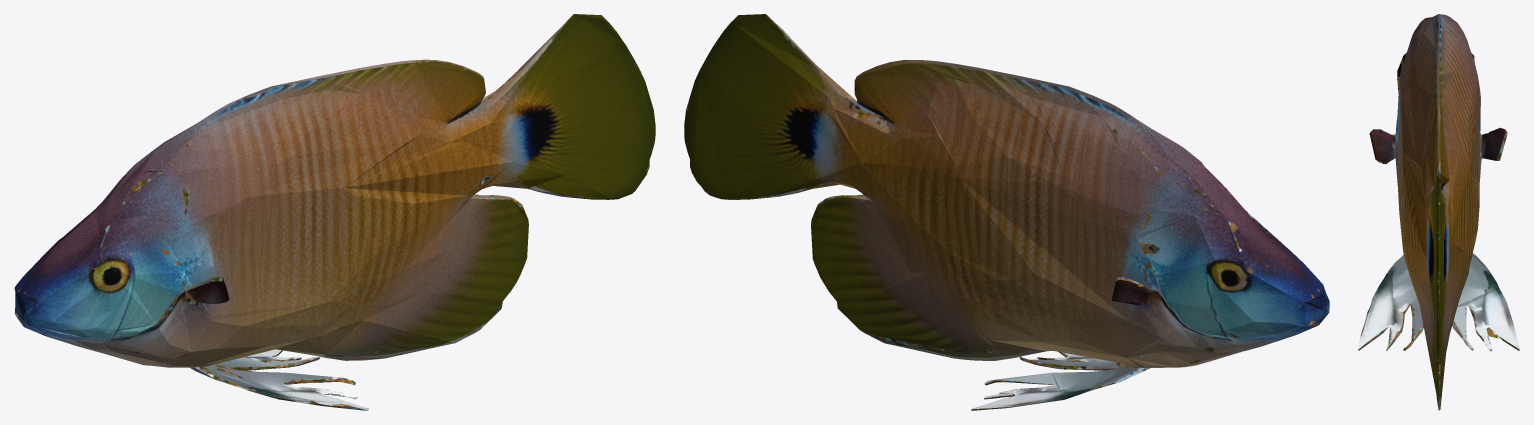
The model's file is fish_0068_smpl23_resized.glb.
3 renders of one model, left to right at view 1: azimuth 30°, elevation 25°; view 2: azimuth 150°, elevation 25°; view 3: azimuth 270°, elevation 25°, orthographic. The views are drawn at different scales.
Visible parts, largest first — view 1: world; view 2: world; view 3: world.
Part boxes in pixels (x1,y1,x2,y2): world: (14, 14, 655, 410); world: (684, 14, 1329, 410); world: (1358, 14, 1519, 410).
Bounding box in the file's own units: 1.98 × 0.9135 × 0.4533.
1 material, 1 textured.
